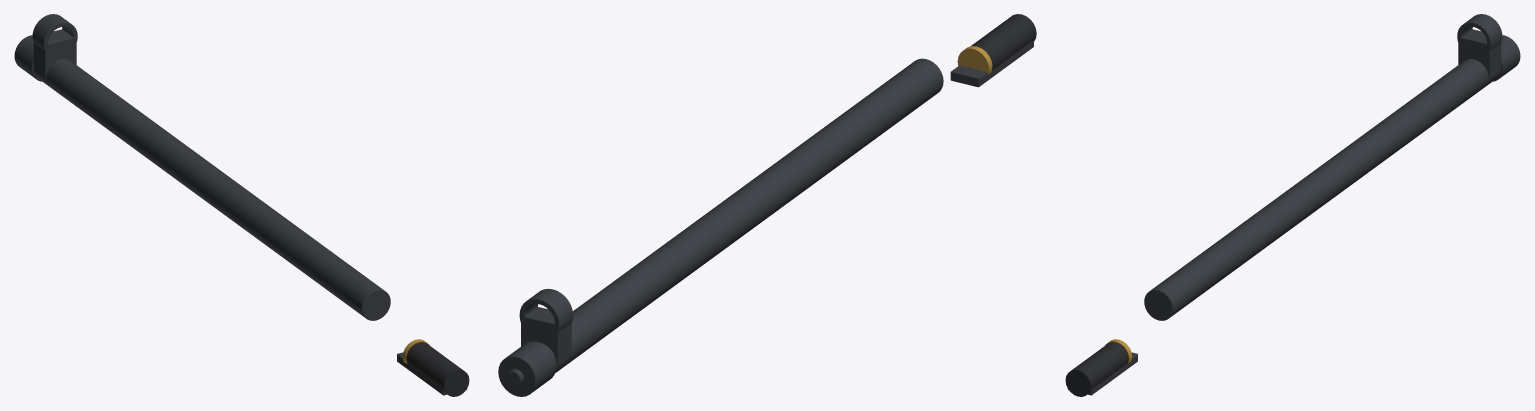
File: mod_plowman_extended_tube.glb
3 views of the same model, side by side, from view 1: azimuth 30°, elevation 25°; view 2: azimuth 150°, elevation 25°; view 3: azimuth 330°, elevation 25° (orthographic). The views are drawn at different scales.
Visible parts, largest first — view 1: MagTube, MagTubeShell; view 2: MagTube, MagTubeShell; view 3: MagTube, MagTubeShell.
Part boxes in pixels (left/top/right/bottom): MagTube: left=14, top=14, right=466, bottom=395; MagTubeShell: left=402, top=339, right=469, bottom=396; MagTube: left=498, top=40, right=1033, bottom=396; MagTubeShell: left=957, top=14, right=1036, bottom=74; MagTube: left=1068, top=14, right=1520, bottom=395; MagTubeShell: left=1065, top=339, right=1132, bottom=396.
Size of the model in its own units: 0.027 by 0.064 by 0.588.
